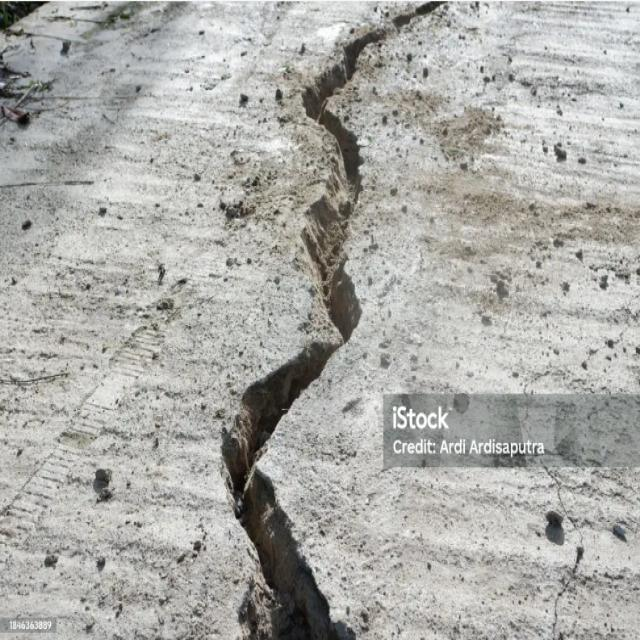curved crack: (223, 1, 442, 639)
